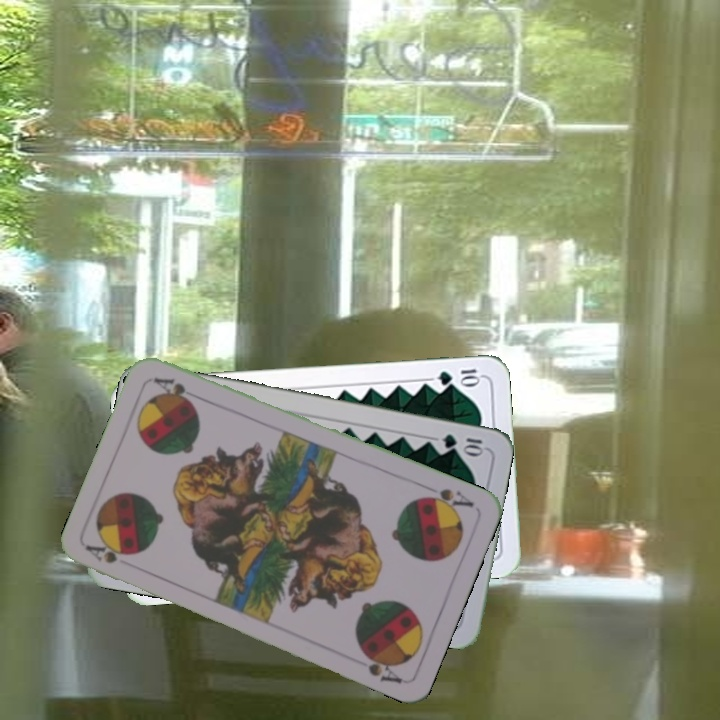G10: (438, 430, 488, 456), (434, 365, 483, 387)
SA: (417, 481, 477, 514), (82, 541, 130, 566)
